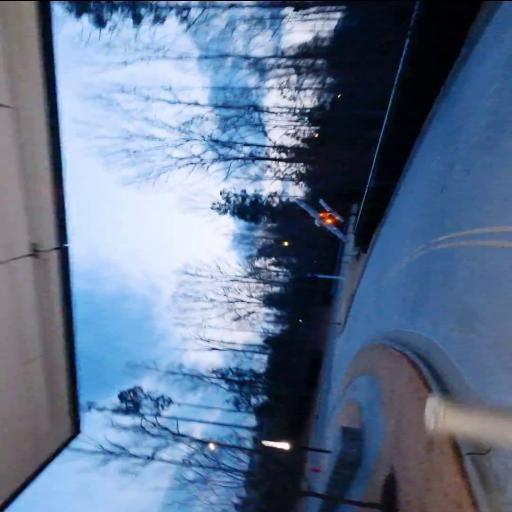uav: (290, 193, 356, 243)
